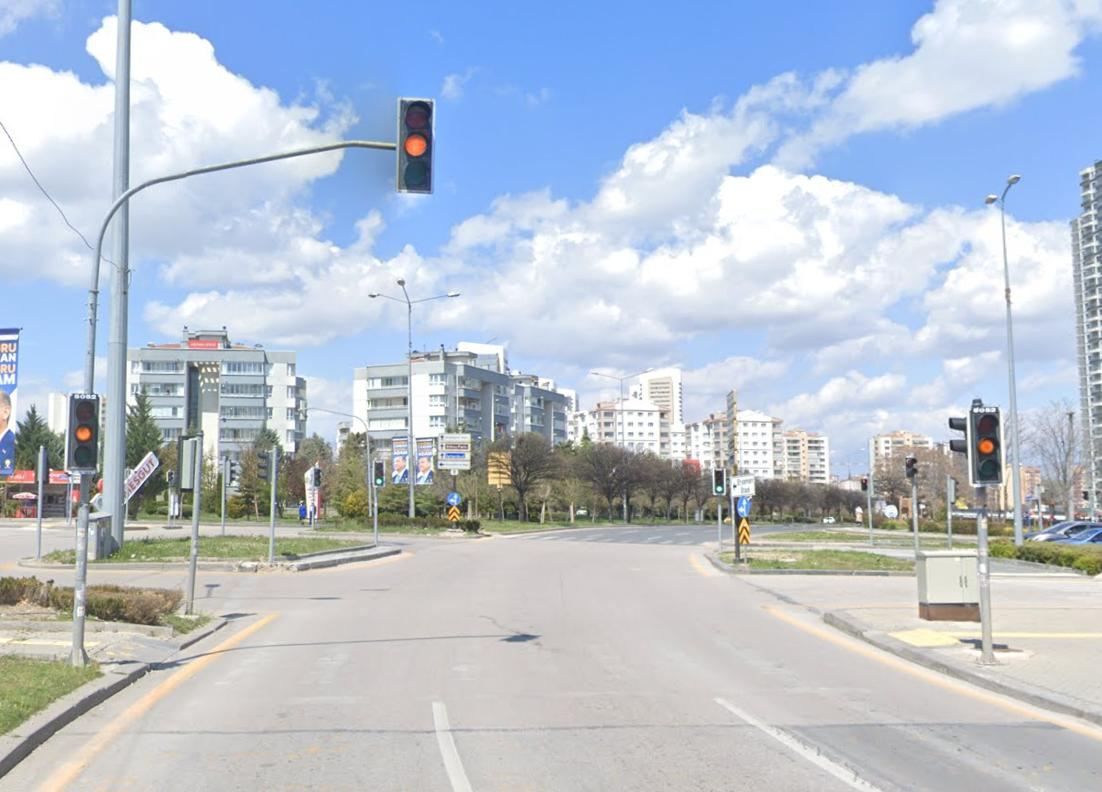yellowlight: (971, 407, 1004, 479), (405, 99, 432, 184), (70, 393, 98, 464)
